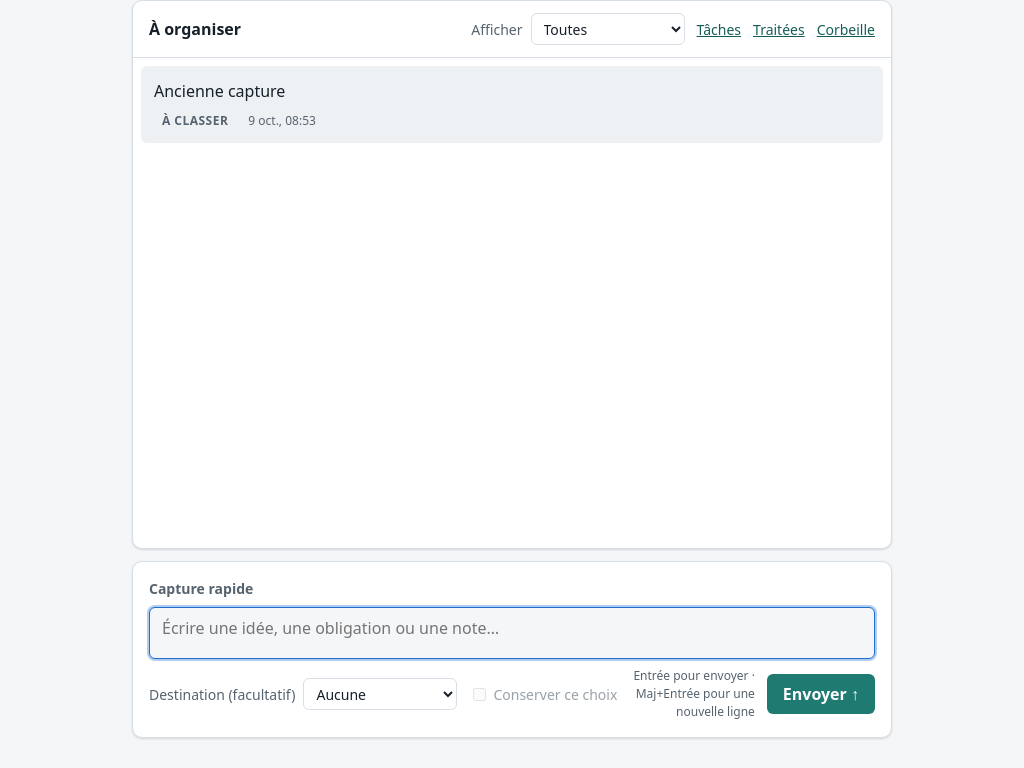
Test: InboxHome : boîte et capture (001-A) › une capture apparaît en bas (au-dessus du champ), une seule fois, marquée « À classer »
The width and height of the screenshot is (1024, 768).
Expected: the text "Ancienne capture" is shown, x1=154 y1=80 x2=285 y2=102
Type "Vendre ma PlayStation 5" into the text box labelled "Capture rapide" at x=512, y=633, box x1=149 y1=607 x2=875 y2=659
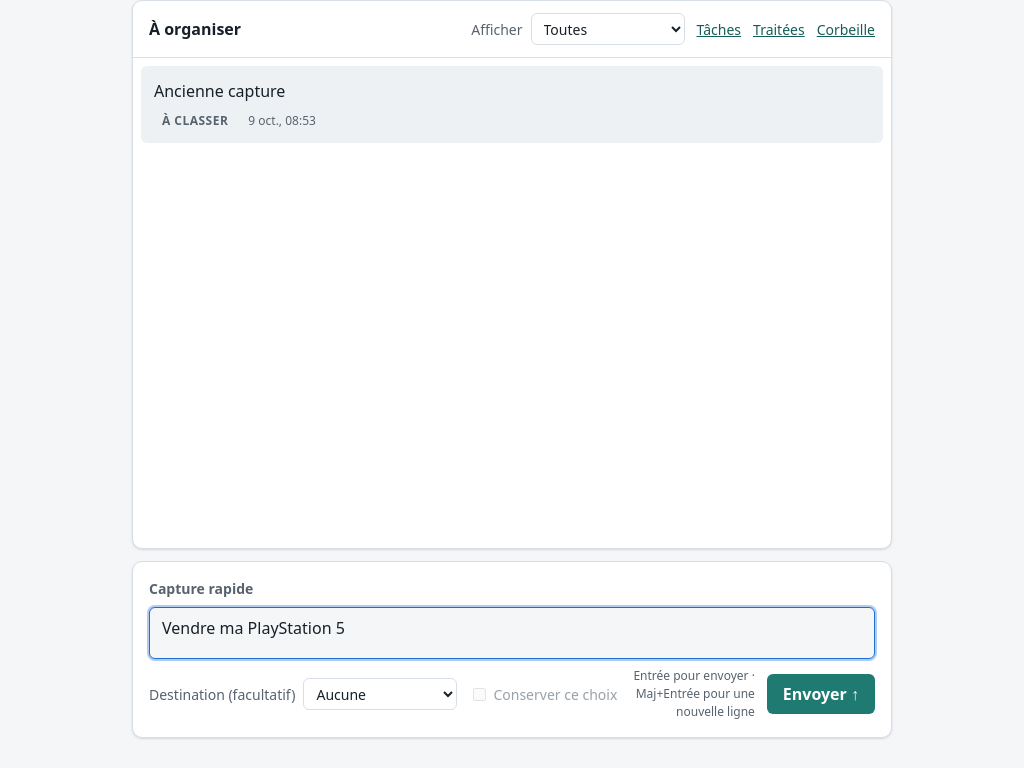
Press Enter in the text box labelled "Capture rapide", box x1=149 y1=607 x2=875 y2=659
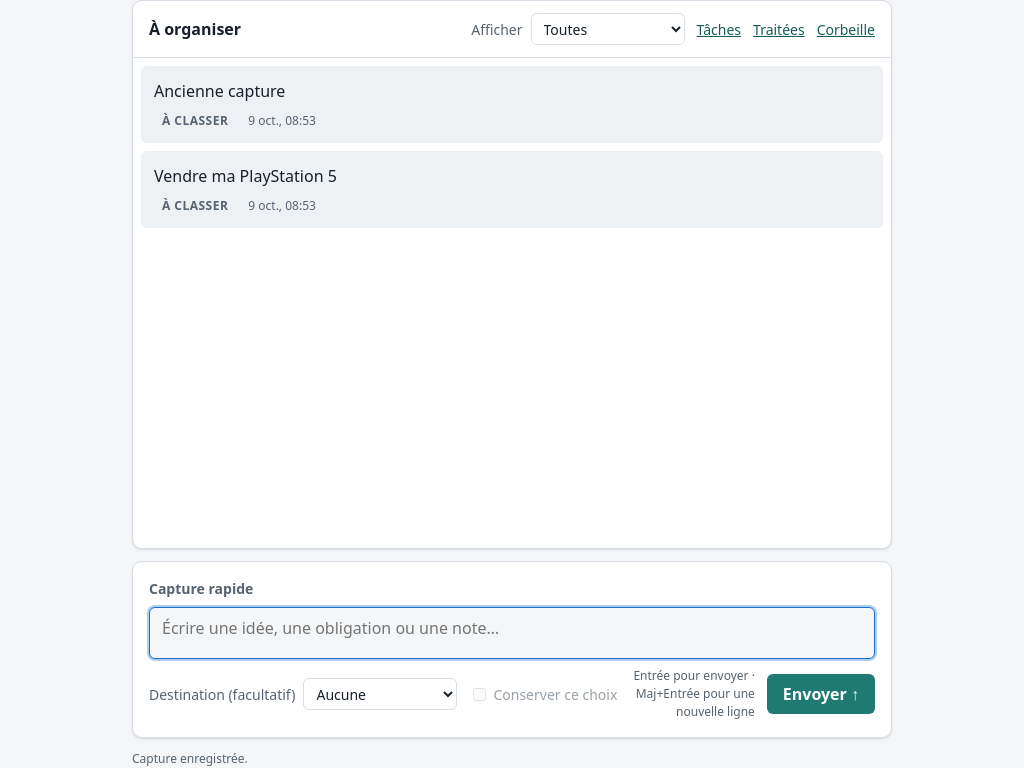
Result: the text box labelled "Capture rapide" is empty at x1=149 y1=607 x2=875 y2=659
Result: the number of list items is 2 at x1=141 y1=66 x2=883 y2=143; x1=141 y1=151 x2=883 y2=228
Result: the list item "Vendre ma PlayStation 5 À classer 9 oct., 08:53" is shown at x1=141 y1=151 x2=883 y2=228
